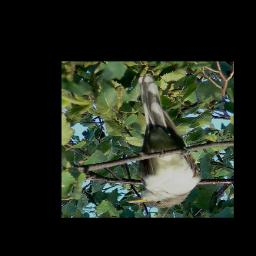Cuckoo: (126, 72, 200, 209)
